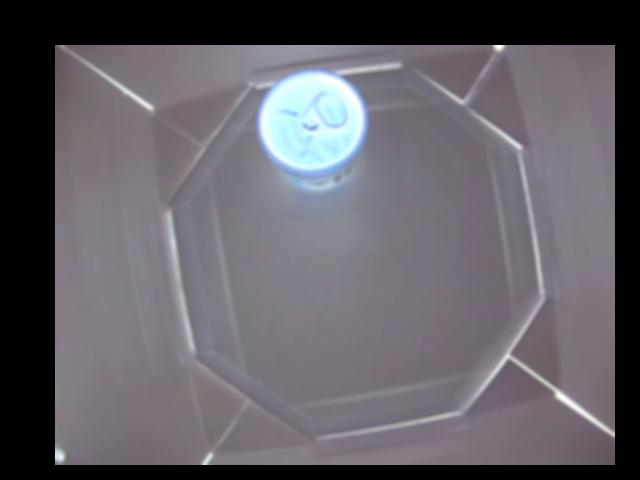Bottle: (256, 69, 368, 191)
